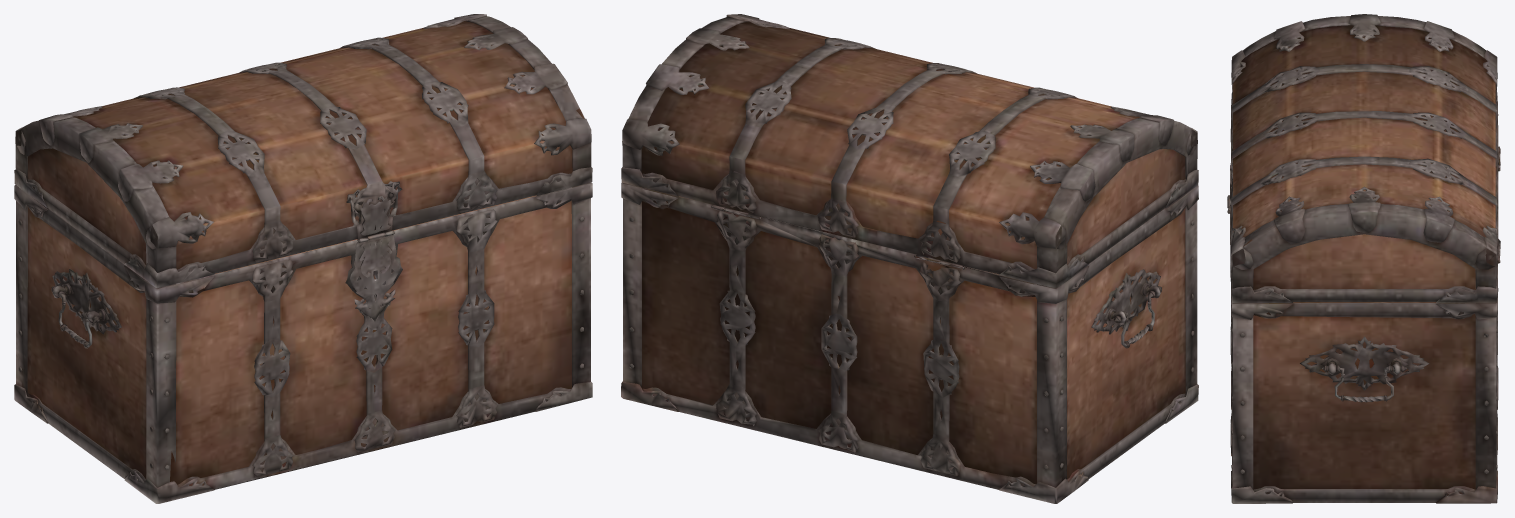
File: chest.glb
3 renders of one model, left to right at view 1: azimuth 30°, elevation 25°; view 2: azimuth 150°, elevation 25°; view 3: azimuth 270°, elevation 25°, orthographic. The views are drawn at different scales.
Visible parts, largest first — view 1: treasure_chest_bottom; view 2: treasure_chest_bottom; view 3: treasure_chest_bottom.
Boxes of the visible parts, box(x1,y1,x2,y2) form: treasure_chest_bottom: box(14, 14, 592, 503); treasure_chest_bottom: box(621, 14, 1198, 503); treasure_chest_bottom: box(1227, 14, 1500, 503).
Bounding box in the file's own units: 0.959 × 0.6177 × 0.5223.
1 material, 1 textured.
